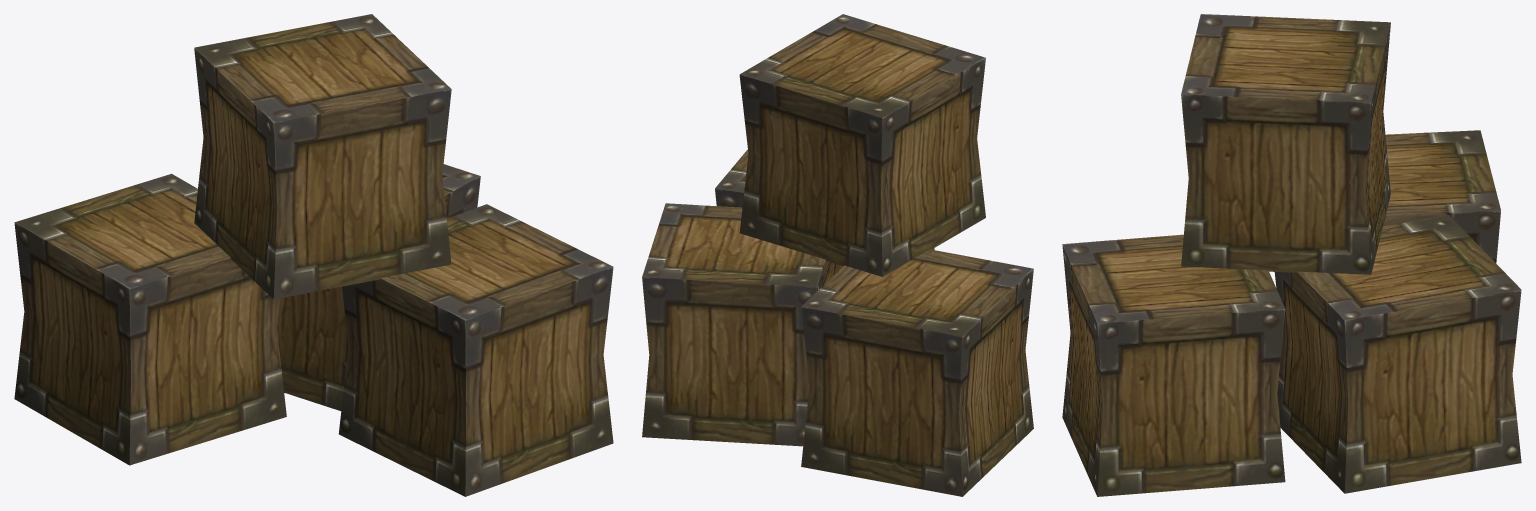
The model's file is DN_WoodBox02.FBX.
3 renders of one model, left to right at view 1: azimuth 30°, elevation 25°; view 2: azimuth 150°, elevation 25°; view 3: azimuth 270°, elevation 25°, orthographic. The views are drawn at different scales.
Parts seen in each view (by area): view 1: DN_WoodBox02; view 2: DN_WoodBox02; view 3: DN_WoodBox02.
Boxes of the visible parts, bbox=[...] form: DN_WoodBox02: bbox=[14, 14, 613, 496]; DN_WoodBox02: bbox=[642, 14, 1033, 496]; DN_WoodBox02: bbox=[1062, 14, 1521, 496].
Size of the model in its own units: 64.17 by 53.45 by 64.39.
Materials: 1 (1 with a texture image).
